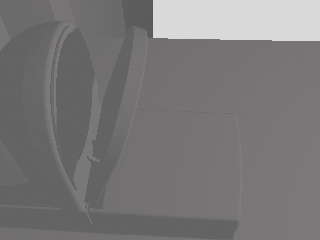lid_1: (83, 27, 147, 208)
